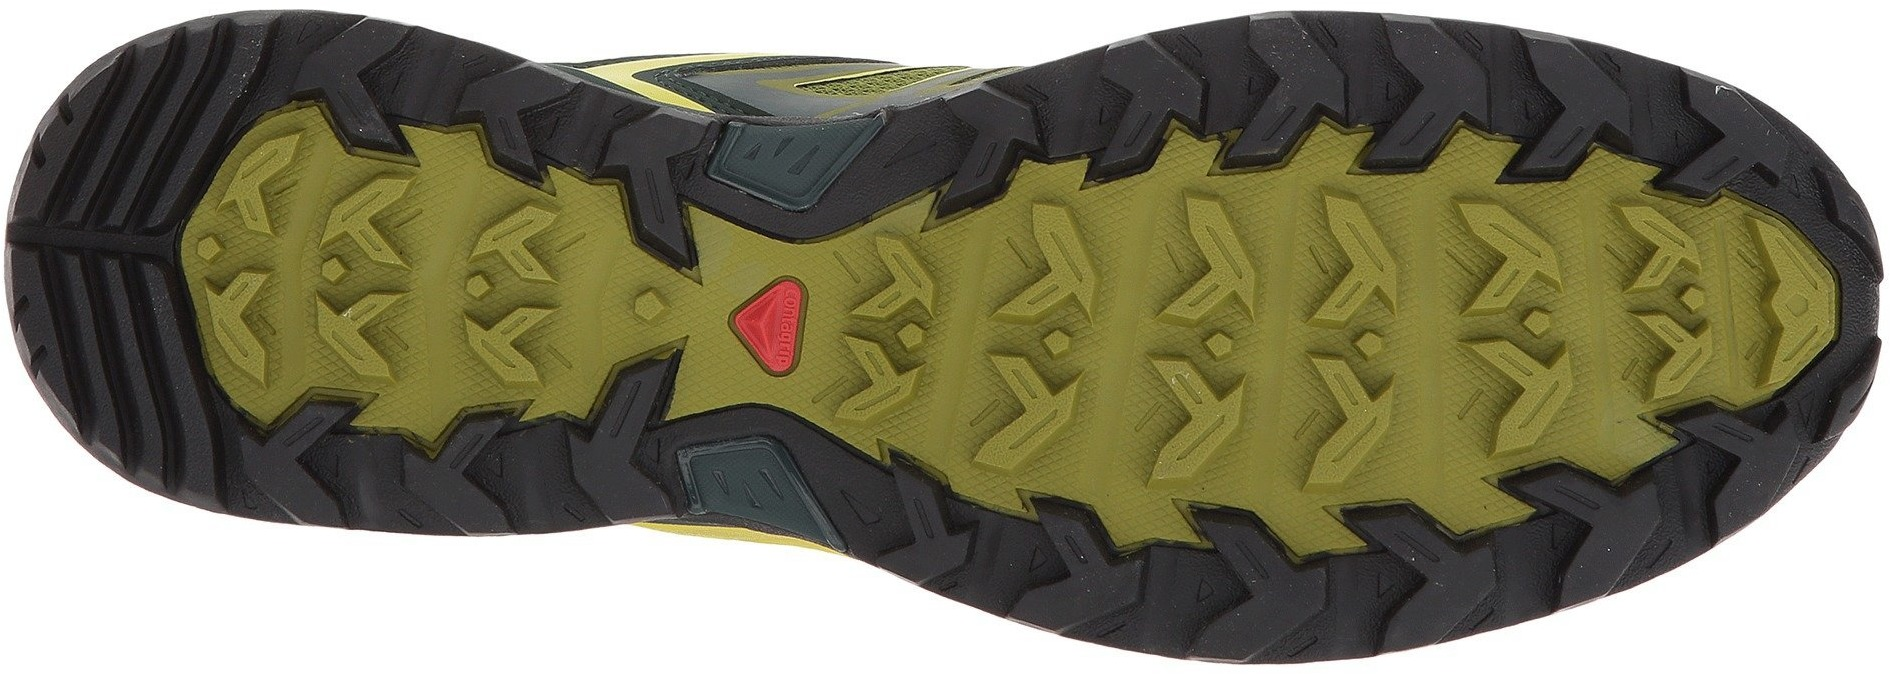chevron: (723, 263, 824, 388), (1196, 293, 1285, 394), (880, 292, 950, 385), (1356, 553, 1444, 625), (1028, 301, 1100, 381), (304, 231, 376, 310), (448, 423, 520, 491), (1368, 65, 1426, 127)
line: (49, 254, 181, 391), (88, 60, 217, 191), (1008, 524, 1096, 596), (448, 423, 520, 491)
polygon: (1196, 293, 1285, 394), (880, 292, 950, 385), (1028, 301, 1100, 381), (304, 231, 376, 310), (606, 274, 689, 340), (181, 213, 242, 279), (1512, 293, 1577, 353), (447, 264, 520, 315), (1346, 318, 1403, 375), (1669, 271, 1724, 327)
quad: (723, 263, 824, 388), (1196, 293, 1285, 394), (880, 292, 950, 385), (1028, 301, 1100, 381), (304, 231, 376, 310), (606, 274, 689, 340), (181, 213, 242, 279), (1512, 293, 1577, 353), (447, 264, 520, 315), (1346, 318, 1403, 375), (1669, 271, 1724, 327)
text: (723, 263, 824, 388)
triangle: (723, 263, 824, 388), (1008, 524, 1096, 596), (1356, 553, 1444, 625), (830, 471, 900, 550), (448, 423, 520, 491), (1368, 65, 1426, 127), (1175, 559, 1235, 613)
